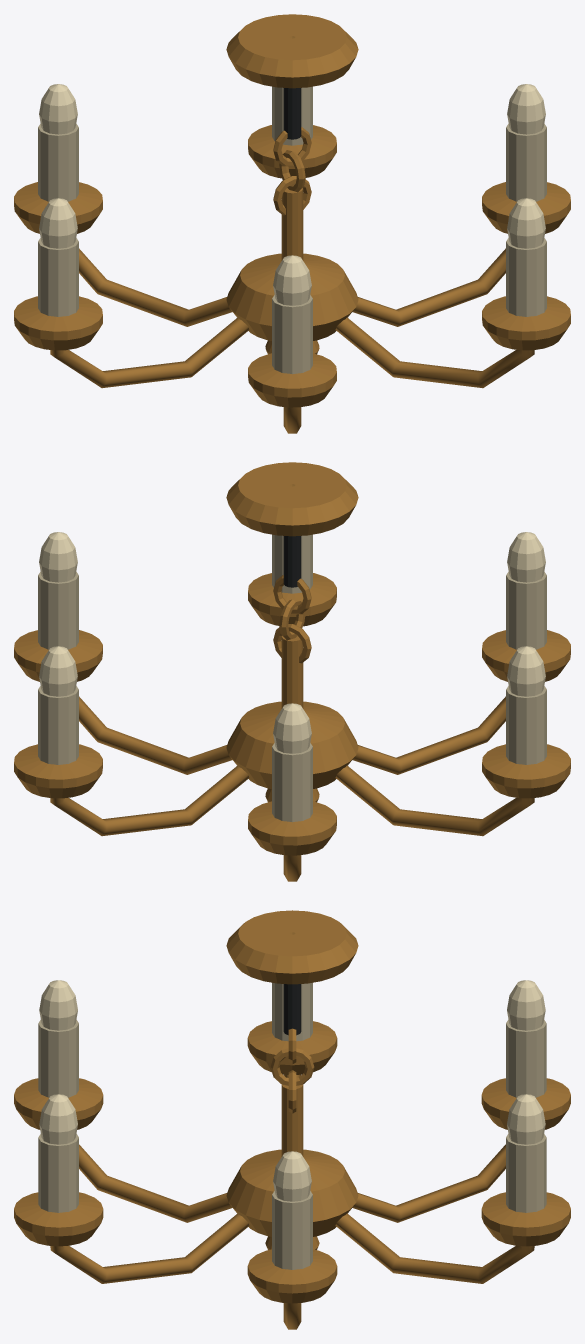
File: PubChandelier.glb
The picture shows the model from 3 angles, top to bottom: view 1: azimuth 30°, elevation 25°; view 2: azimuth 150°, elevation 25°; view 3: azimuth 270°, elevation 25°; orthographic projection.
Parts seen in each view (by area): view 1: CeilingCanopy, CentralBowl, ScrollArm.005, ScrollArm.003, LampCup.004, LampCup.005, LampCup.006, ScrollArm, ScrollArm.002, IvoryCandleSleeve.004, IvoryCandleSleeve.003, IvoryCandleSleeve.005 (+16 smaller); view 2: CeilingCanopy, CentralBowl, ScrollArm.001, ScrollArm.003, LampCup.004, LampCup.003, LampCup.002, ScrollArm, ScrollArm.004, IvoryCandleSleeve.002, IvoryCandleSleeve.001, IvoryCandleSleeve.003 (+16 smaller); view 3: CeilingCanopy, CentralBowl, ScrollArm.001, ScrollArm.005, LampCup.001, LampCup.002, LampCup.006, ScrollArm.002, ScrollArm.004, IvoryCandleSleeve, IvoryCandleSleeve.001, IvoryCandleSleeve.005 (+14 smaller).
Boxes of the visible parts, x1,y1,x2,y2 form: CeilingCanopy: (226,14,358,88); CentralBowl: (226,253,358,340); ScrollArm.005: (335,317,534,388); ScrollArm.003: (50,317,249,388); LampCup.004: (14,296,102,350); LampCup.005: (248,353,336,407); LampCup.006: (482,296,570,350); ScrollArm: (352,248,505,326); ScrollArm.002: (79,248,232,326); IvoryCandleSleeve.004: (272,295,312,374); IvoryCandleSleeve.003: (38,238,78,316); IvoryCandleSleeve.005: (506,238,546,316); CeilingCanopy: (226,462,358,536); CentralBowl: (226,701,358,788); ScrollArm.001: (50,765,249,836); ScrollArm.003: (335,765,534,836); LampCup.004: (482,744,570,798); LampCup.003: (248,801,336,855); LampCup.002: (14,744,102,798); ScrollArm: (79,696,232,774); ScrollArm.004: (352,696,505,774); IvoryCandleSleeve.002: (272,743,312,822); IvoryCandleSleeve.001: (38,686,78,764); IvoryCandleSleeve.003: (506,686,546,764); CeilingCanopy: (226,910,358,984); CentralBowl: (226,1149,358,1236); ScrollArm.001: (335,1213,534,1283); ScrollArm.005: (50,1213,249,1283); LampCup.001: (247,1249,337,1303); LampCup.002: (481,1192,570,1246); LampCup.006: (14,1192,103,1246); ScrollArm.002: (352,1144,505,1222); ScrollArm.004: (79,1144,232,1222); IvoryCandleSleeve: (272,1191,312,1269); IvoryCandleSleeve.001: (506,1133,546,1212); IvoryCandleSleeve.005: (38,1133,78,1212).
Bounding box in the file's own units: 3.24 × 1.94 × 2.87.
